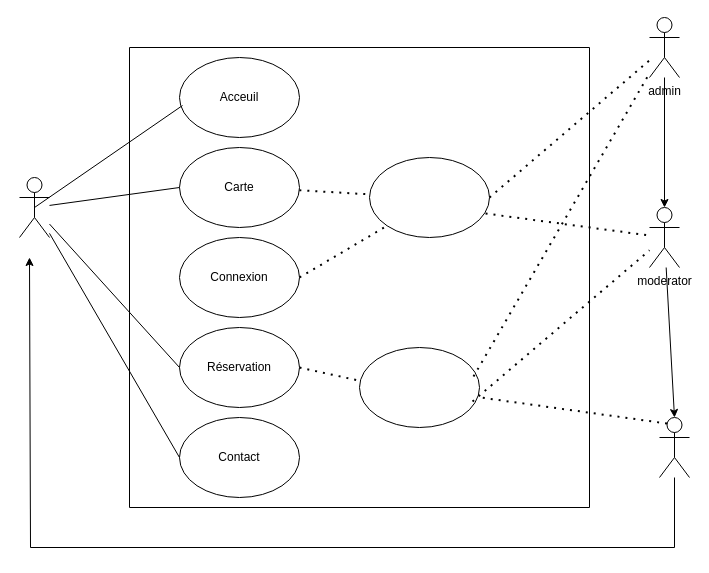
Some shapes in this 709 by 573 pixel diagram are drawn without their labels. The shapes that lost their labels are listed below. From the top down, each one's centre as x and y in pixels, then its label:
At pixel 34 207: "viewer".
At pixel 429 197: "update".
At pixel 419 387: "annuler / confirmer".
At pixel 674 447: "Actor".
